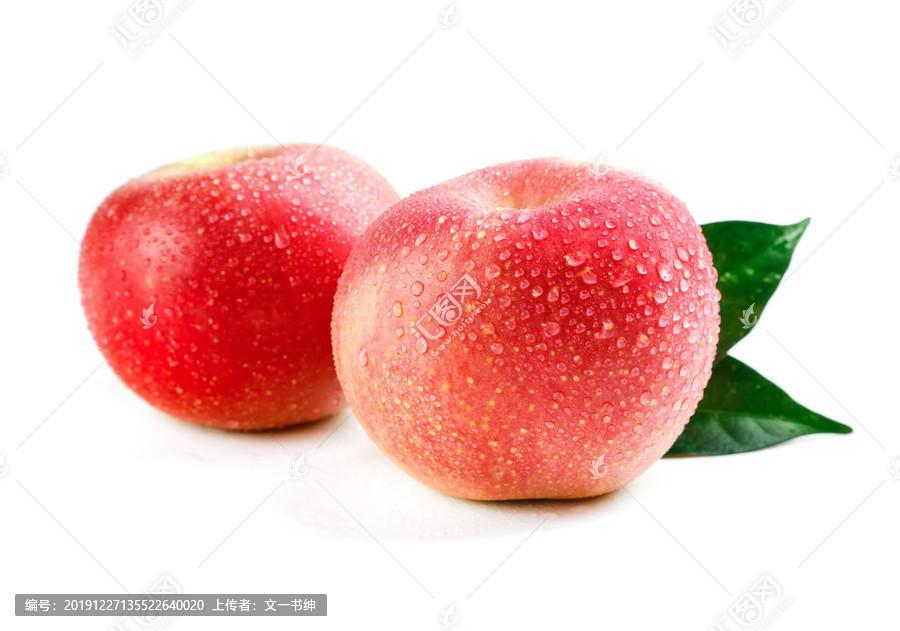apple: (338, 154, 709, 496), (77, 140, 403, 432)
